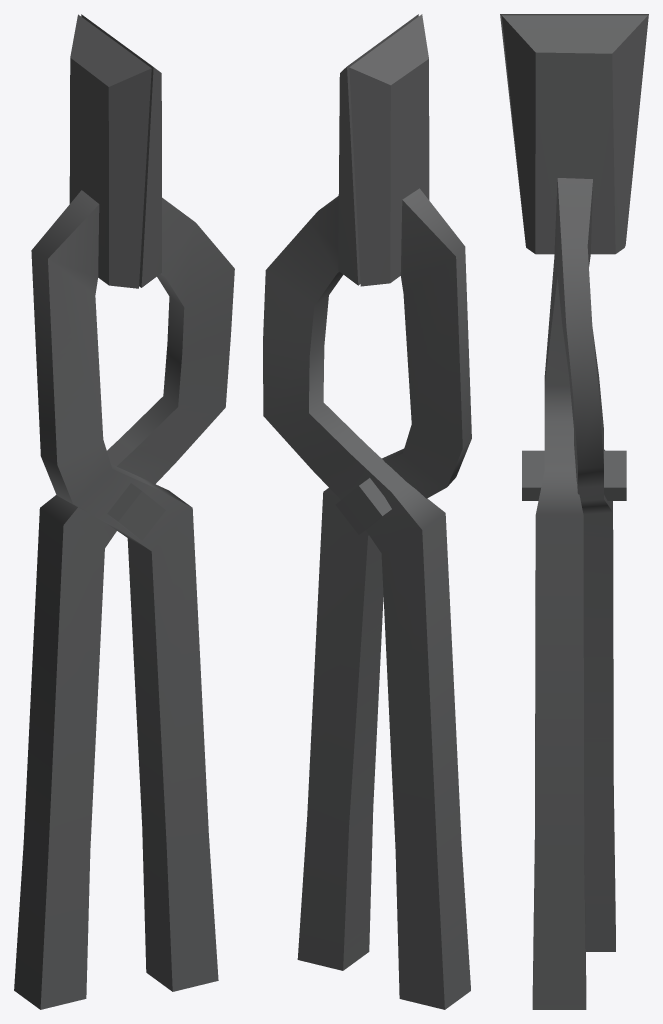
Rendered from BlacksmithTool_B.fbx.
The picture shows the model from 3 angles, left to right: view 1: azimuth 30°, elevation 25°; view 2: azimuth 150°, elevation 25°; view 3: azimuth 270°, elevation 25°; orthographic projection. The views are drawn at different scales.
Visible parts, largest first — view 1: BlacksmithTool_B; view 2: BlacksmithTool_B; view 3: BlacksmithTool_B.
Part boxes in pixels (<box>): BlacksmithTool_B: <box>14,14,234,1009</box>; BlacksmithTool_B: <box>263,14,471,1009</box>; BlacksmithTool_B: <box>500,14,648,1009</box>.
Size of the model in its own units: 25.27 by 116 by 16.42.
